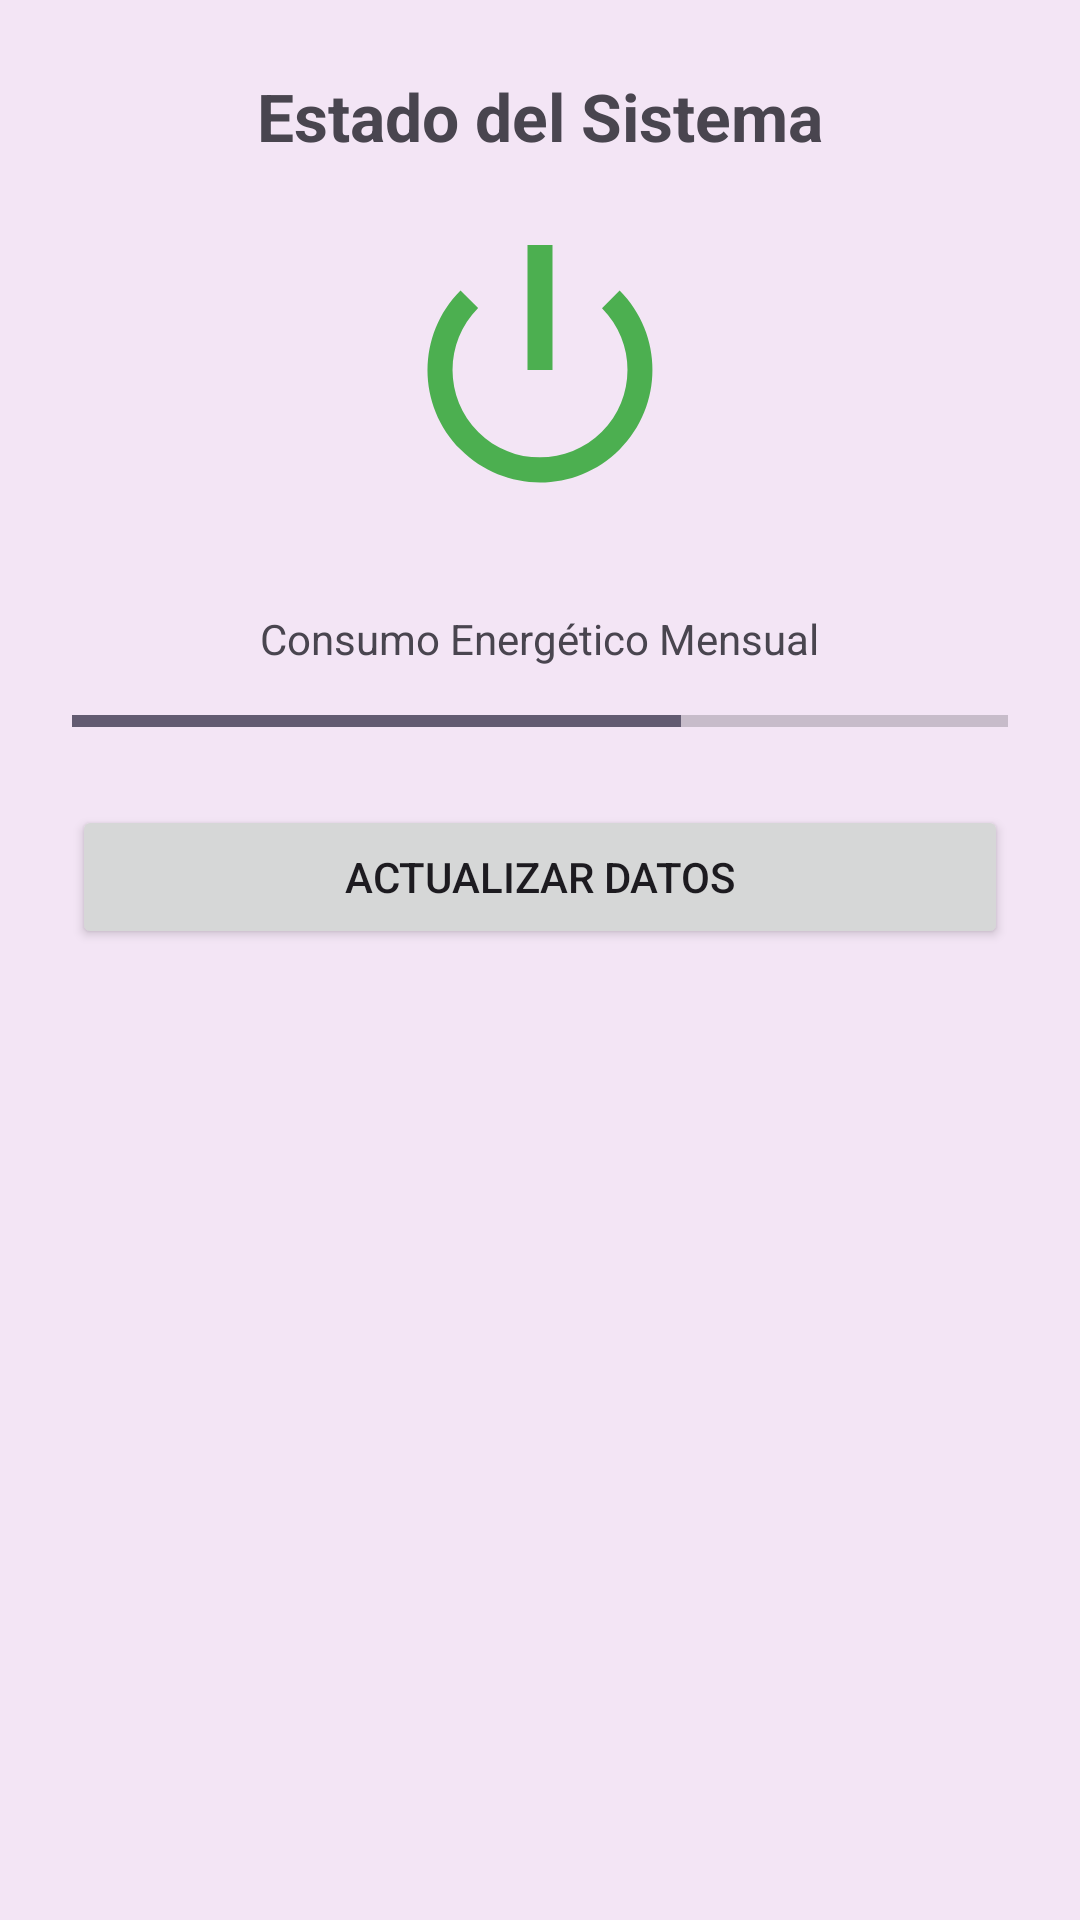

Locate icon controls on the screen. Image size 1080px x 1920px, boxes as [left=x1, top=y1, right=x2, bottom=y2].
lock power off: [left=427, top=245, right=653, bottom=483]
